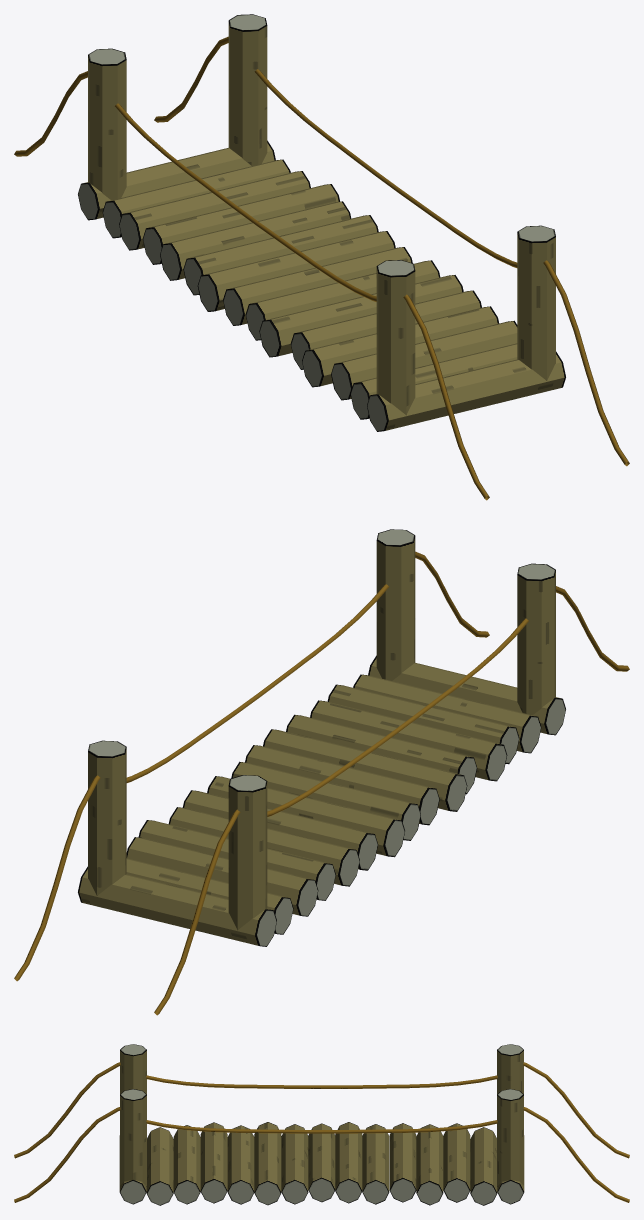
Rendered from BridgePack_02.glb.
3 views of the same model, one above another, from view 1: azimuth 30°, elevation 25°; view 2: azimuth 150°, elevation 25°; view 3: azimuth 270°, elevation 25° (orthographic). The views are drawn at different scales.
Visible parts, largest first — view 1: BridgePack_02; view 2: BridgePack_02; view 3: BridgePack_02.
Part boxes in pixels (box(x1,y1,x2,y2)): BridgePack_02: box(14, 14, 629, 500); BridgePack_02: box(14, 529, 629, 1015); BridgePack_02: box(14, 1044, 629, 1205).
Size of the model in its own units: 2.08 by 1.78 by 9.14.
1 material, 1 textured.
